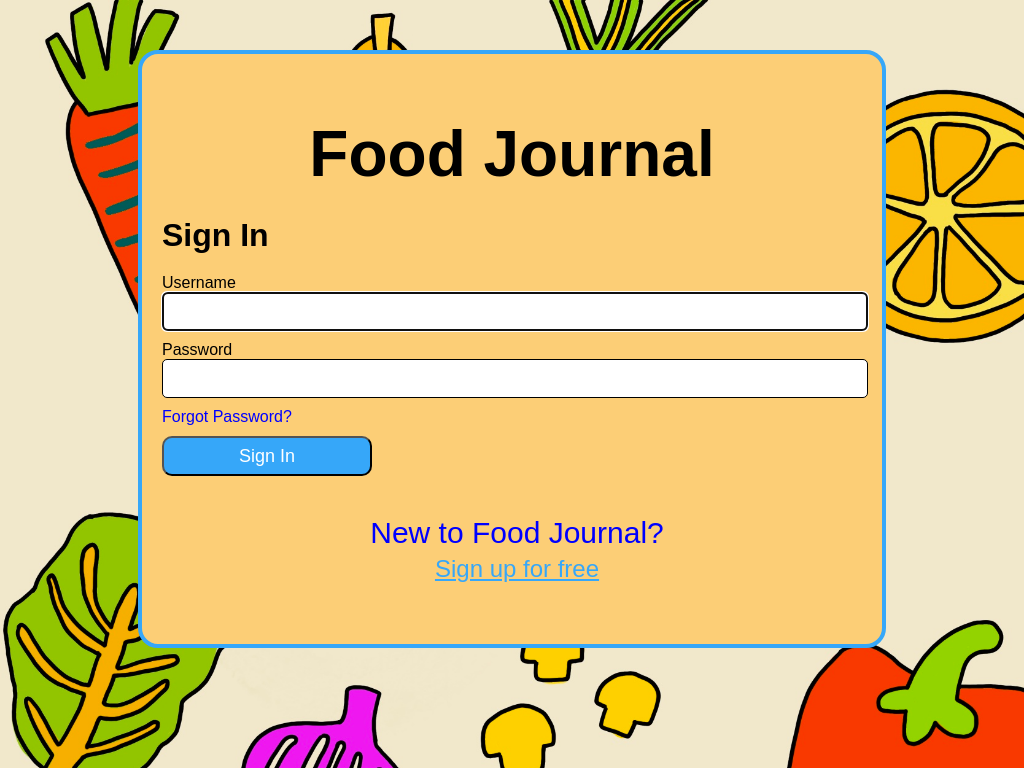
Sign In Page Tests › Fail scenarios › sign in should fail if wrong username & display error message
The width and height of the screenshot is (1024, 768).
Type "cypress" into the field with id "username" at point(515, 312), box [162,292,868,331]
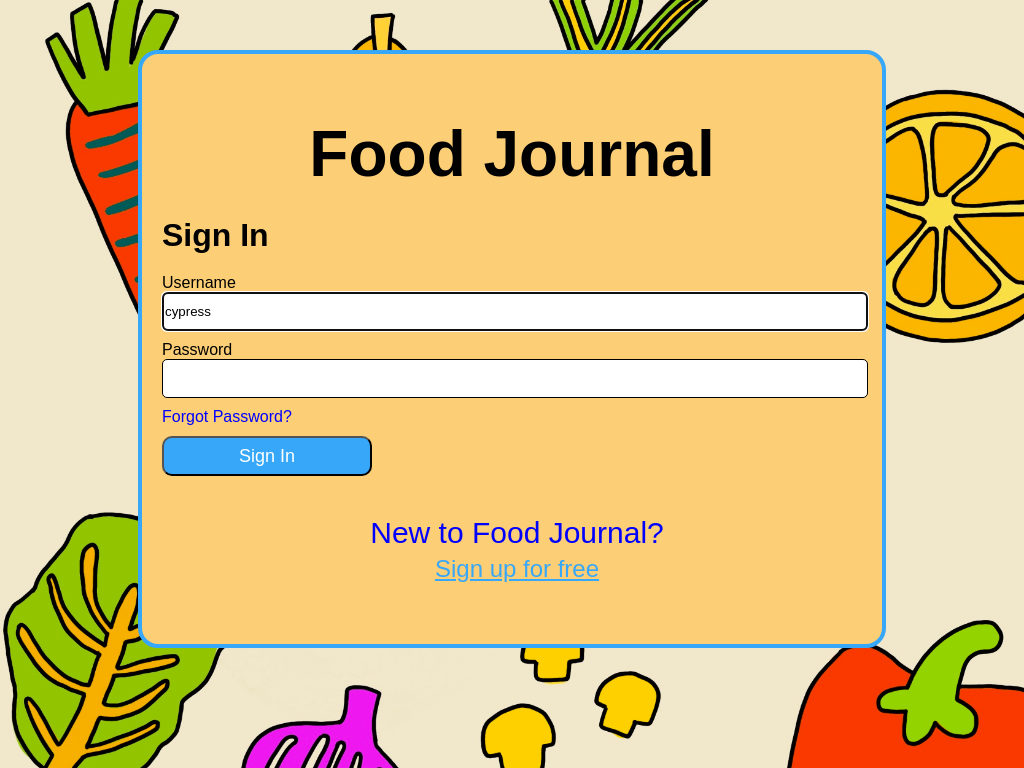
Type "12345" into the password field labelled "Password" at point(515, 379), box [162,359,868,398]
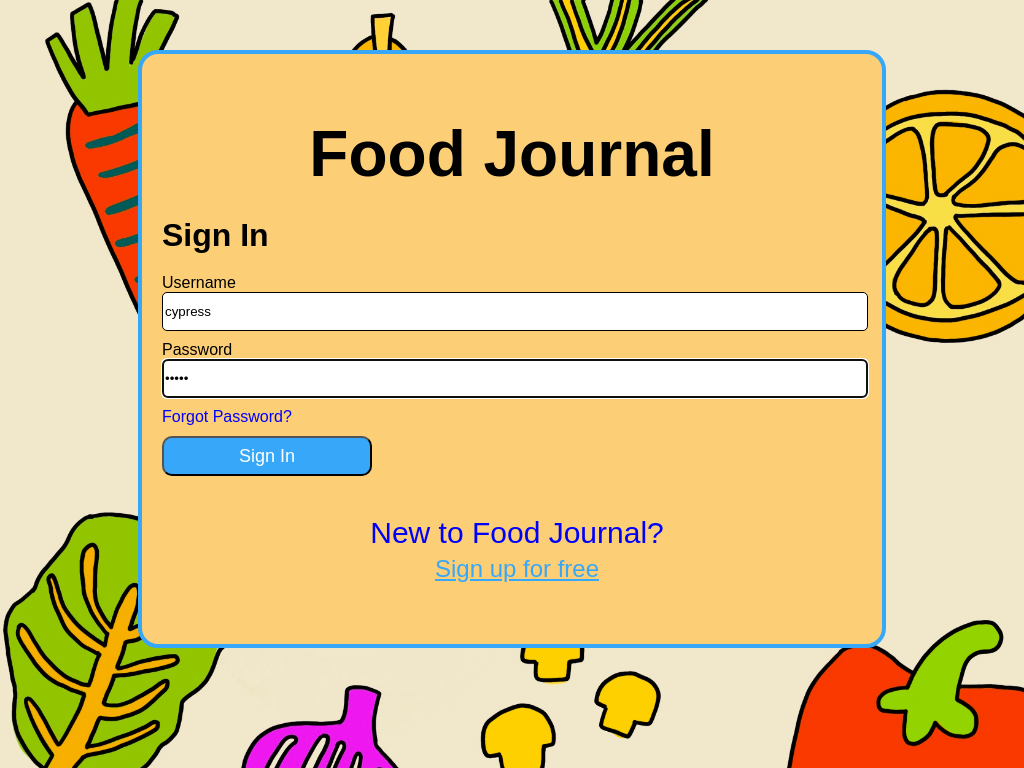
Click the button with class "submit1" at point(267, 456), box [162,436,372,476]
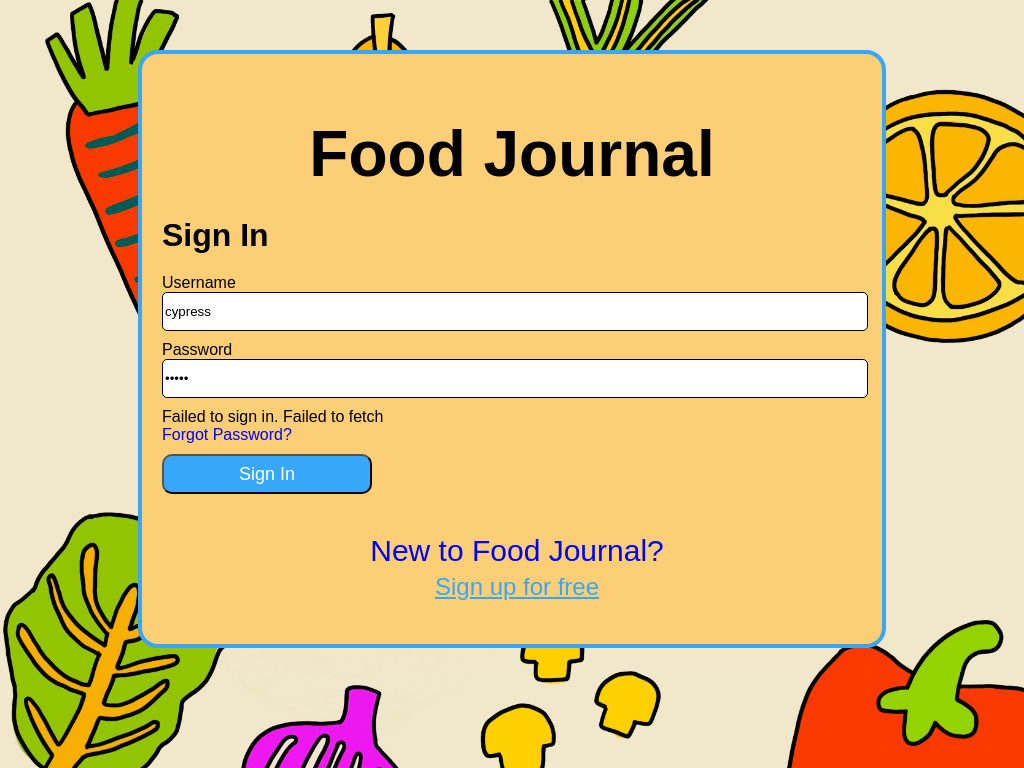
Now the text "Failed to sign in. Failed to fetch" is shown, box [162,408,384,425]
